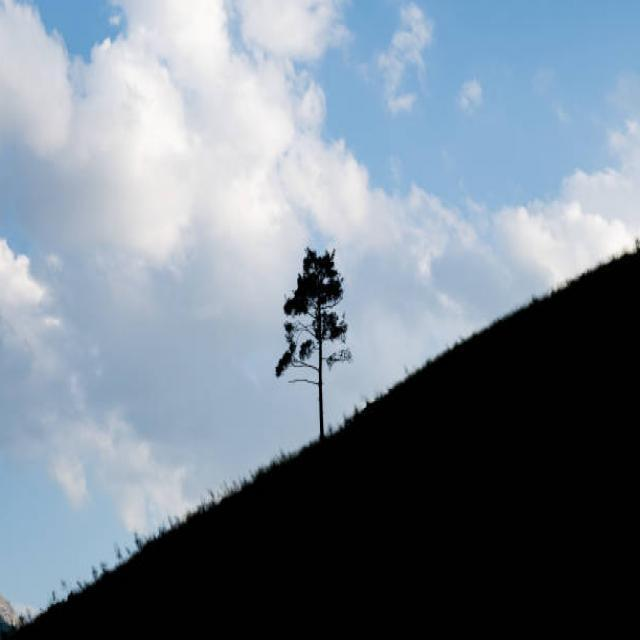tree: (276, 240, 352, 424)
